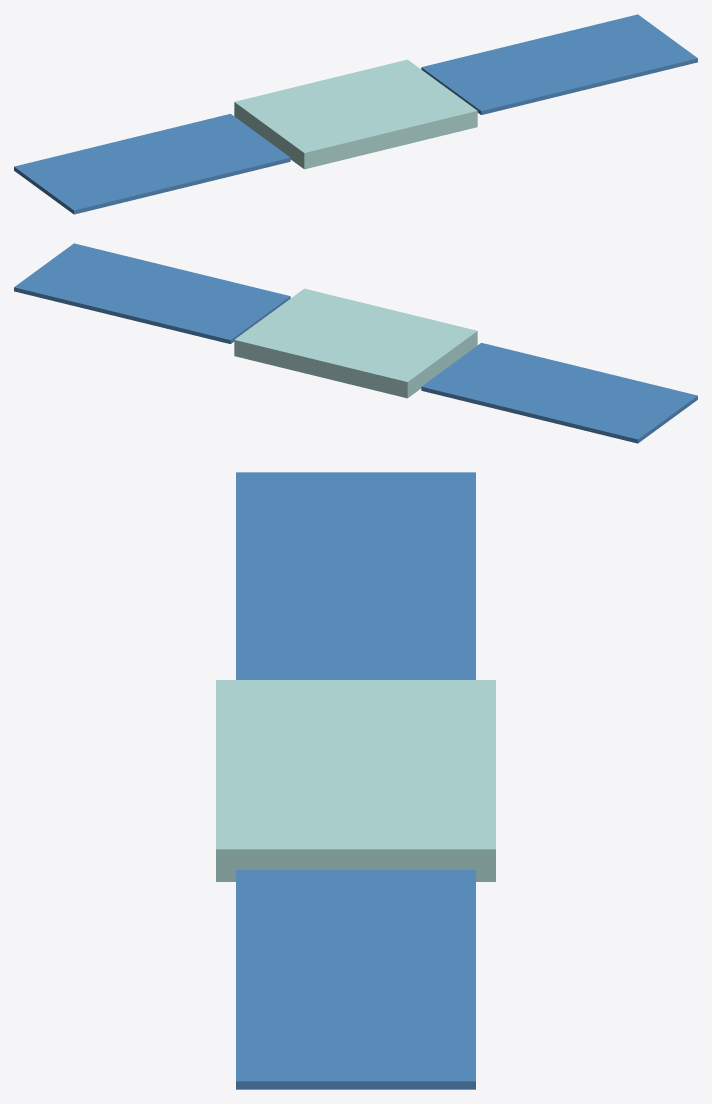
File: kuiper-flat.glb
3 views of the same model, one above another, from view 1: azimuth 30°, elevation 25°; view 2: azimuth 150°, elevation 25°; view 3: azimuth 270°, elevation 25° (orthographic). The views are drawn at different scales.
Parts seen in each view (by area): view 1: kuiper-flat; view 2: kuiper-flat; view 3: kuiper-flat.
Boxes of the visible parts, x1=… form: kuiper-flat: x1=14, y1=14, x2=697, y2=214; kuiper-flat: x1=14, y1=243, x2=697, y2=443; kuiper-flat: x1=216, y1=472, x2=495, y2=1089.
Size of the model in its own units: 7.2 by 0.18 by 1.4.
